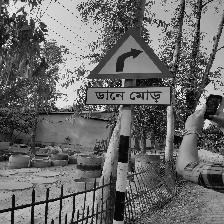Right-turn: (85, 28, 175, 107)
